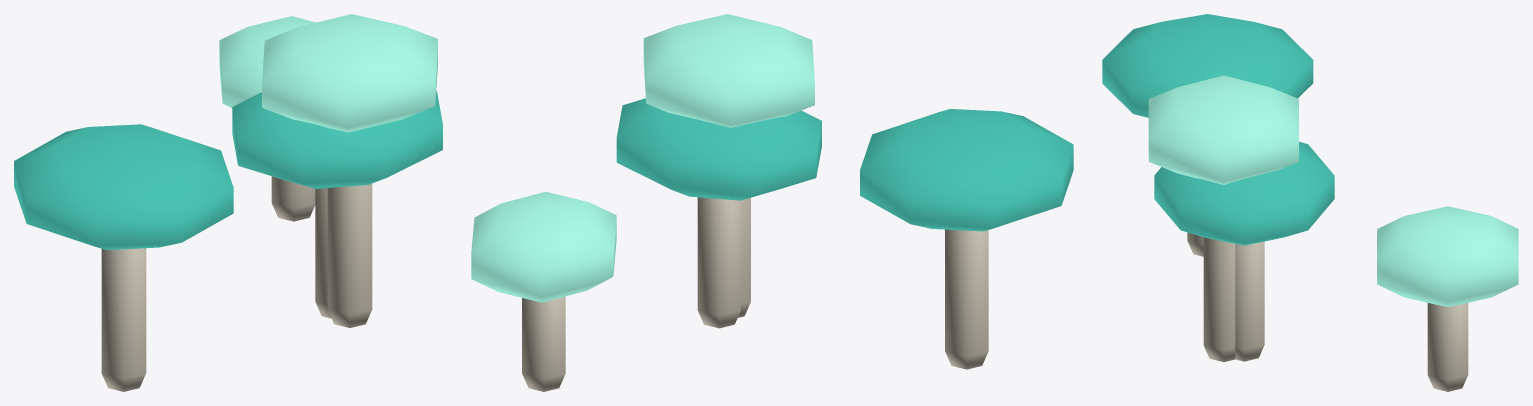
Rendered from prop_mush4_8848.glb.
The picture shows the model from 3 angles, left to right: view 1: azimuth 30°, elevation 25°; view 2: azimuth 150°, elevation 25°; view 3: azimuth 270°, elevation 25°; orthographic projection. The views are drawn at different scales.
Parts seen in each view (by area): view 1: prop_mush4_8848; view 2: prop_mush4_8848; view 3: prop_mush4_8848.
Part boxes in pixels (<box>): prop_mush4_8848: <box>14,14,442,391</box>; prop_mush4_8848: <box>471,14,1073,391</box>; prop_mush4_8848: <box>1102,14,1518,391</box>.
Size of the model in its own units: 0.4662 by 0.2802 by 0.3928.
2 materials, 2 textured.
